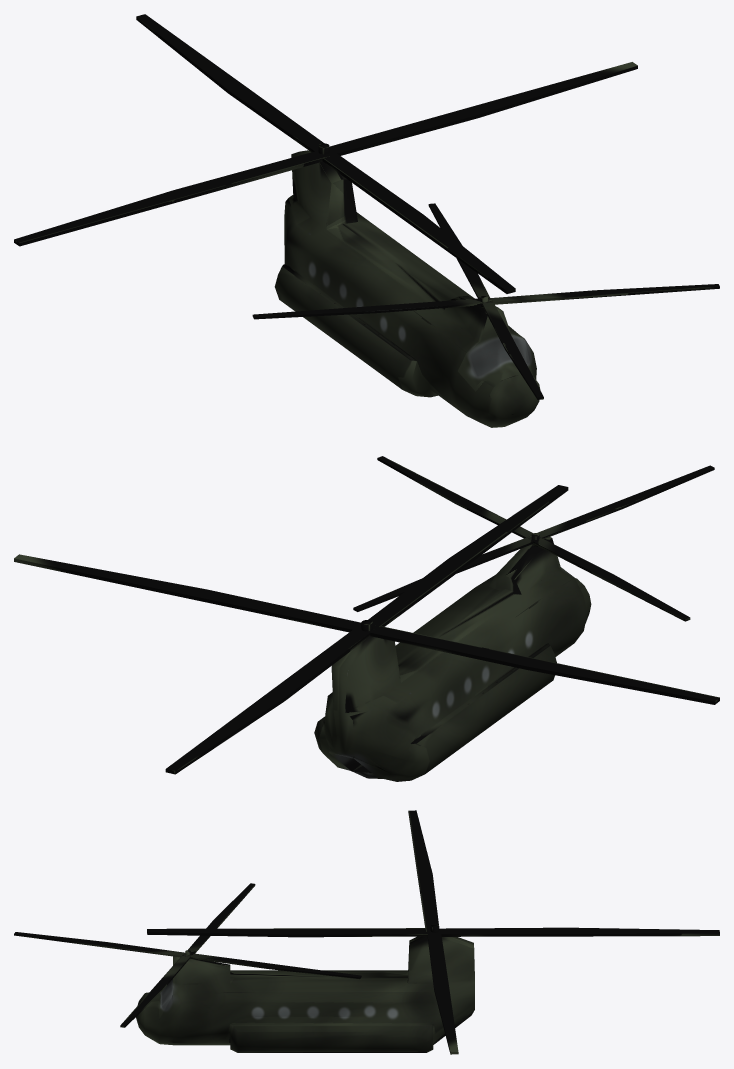
Rendered from Chinook.fbx.
3 renders of one model, top to bottom at view 1: azimuth 30°, elevation 25°; view 2: azimuth 150°, elevation 25°; view 3: azimuth 270°, elevation 25°, orthographic. The views are drawn at different scales.
Visible parts, largest first — view 1: Chinook; view 2: Chinook; view 3: Chinook.
Boxes of the visible parts, <box> form: Chinook: <box>14,14,719,427</box>; Chinook: <box>14,456,719,781</box>; Chinook: <box>14,810,719,1054</box>.
Bounding box in the file's own units: 15.68 × 3.5 × 19.38.
Materials: 1 (1 with a texture image).
